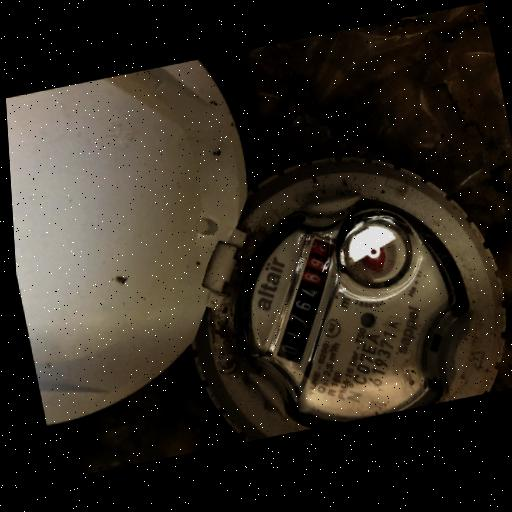0: (274, 335, 308, 367)
1: (280, 320, 313, 351)
4: (294, 276, 328, 308)
6: (299, 261, 332, 293), (289, 291, 323, 322)
7: (284, 306, 317, 338)
9: (307, 235, 339, 265), (304, 247, 335, 276)
border_water_meter_number: (247, 225, 371, 378)
